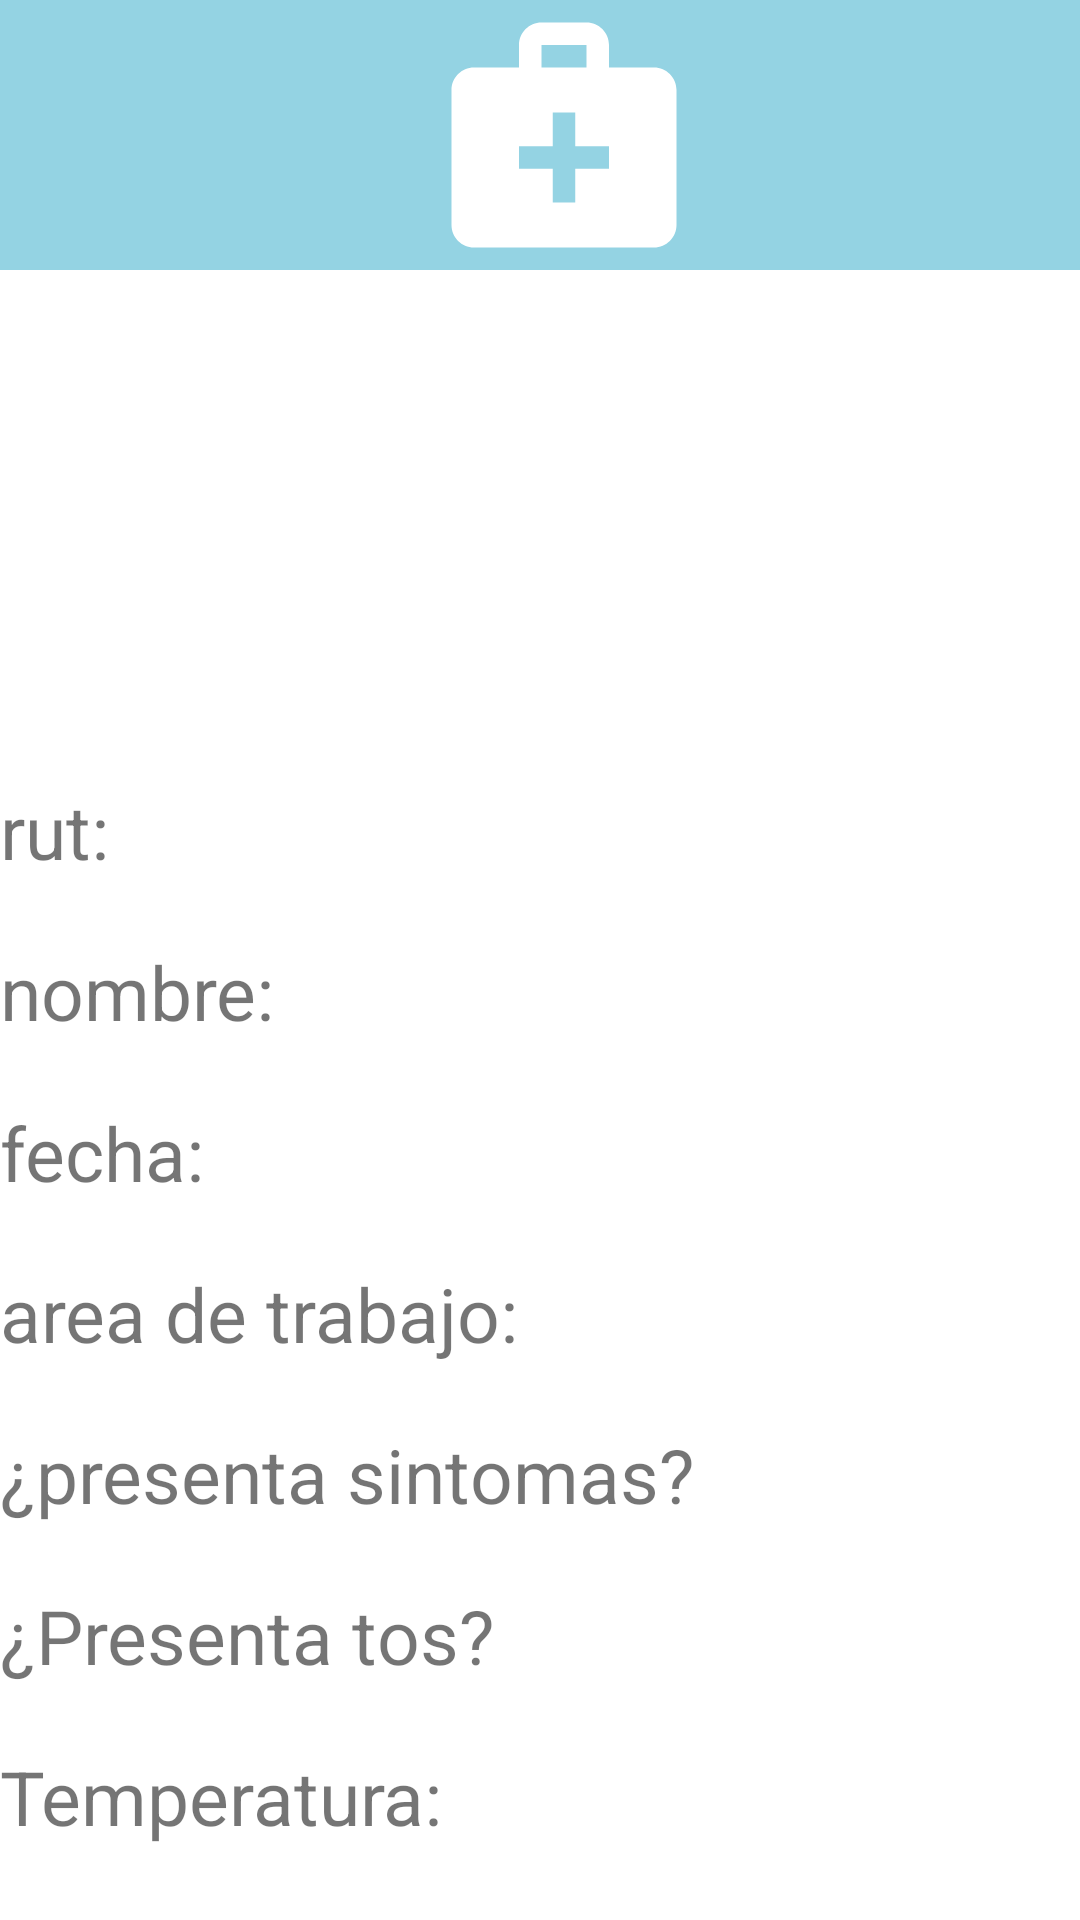

Icons on this 1080px x 1920px Android screen, each with the point to tap as [x,y]:
medical services: [564,135]
